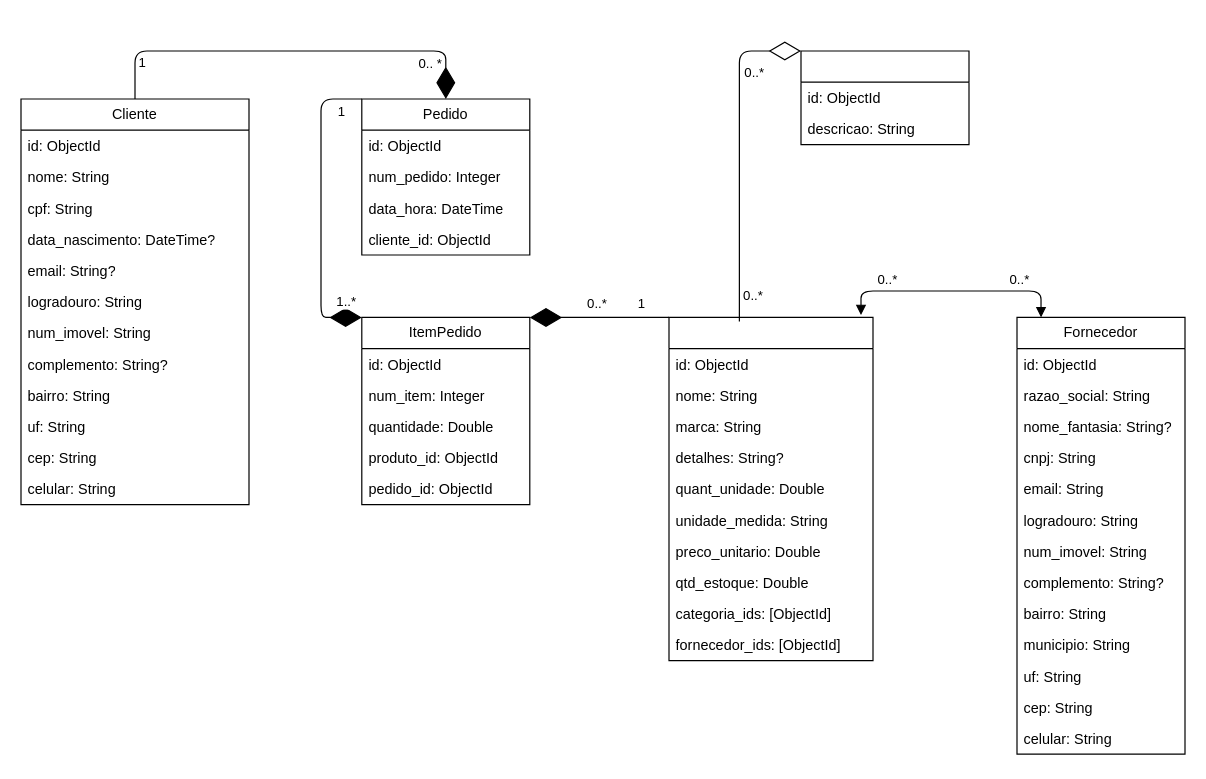
The diagram is 1206 pixels wide and 779 high, and some of its shapes have lost their labels. Here are the shapes that lost their labels. From the top down, the box of each, then its label:
(800, 50, 969, 145): Categoria
(668, 316, 873, 661): Produto
